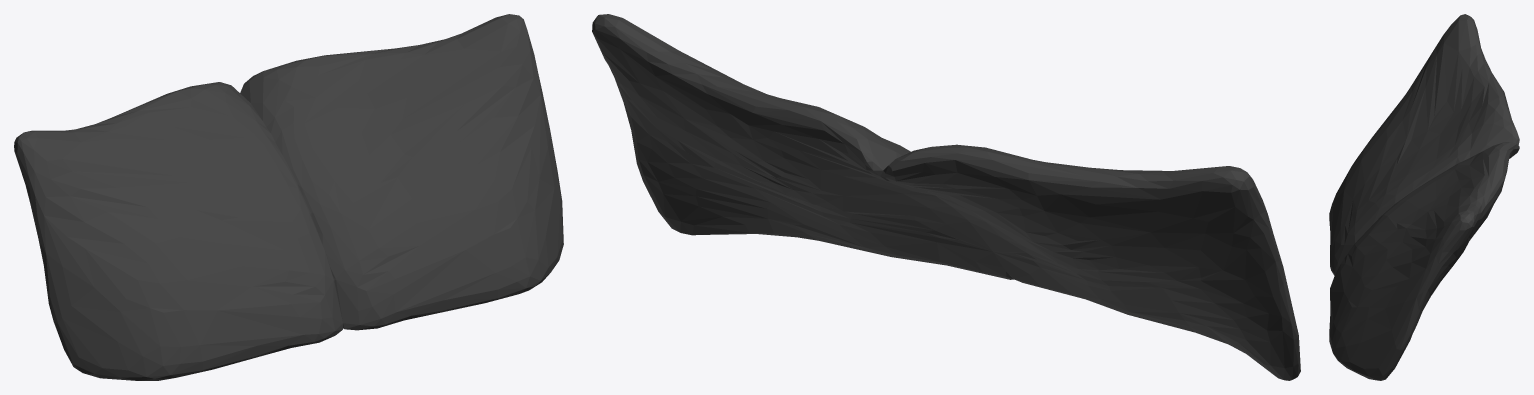
File: m_pectoralis_transversus.glb
The picture shows the model from 3 angles, left to right: view 1: azimuth 30°, elevation 25°; view 2: azimuth 150°, elevation 25°; view 3: azimuth 270°, elevation 25°; orthographic projection. The views are drawn at different scales.
Parts seen in each view (by area): view 1: m_pectoralis_transversus; view 2: m_pectoralis_transversus; view 3: m_pectoralis_transversus.
Part boxes in pixels (x1,y1,x2,y2): m_pectoralis_transversus: [14, 14, 563, 380]; m_pectoralis_transversus: [592, 14, 1300, 380]; m_pectoralis_transversus: [1329, 14, 1519, 380].
Bounding box in the file's own units: 0.0036 × 0.00139 × 0.00139.
Materials: 1 (1 with a texture image).
